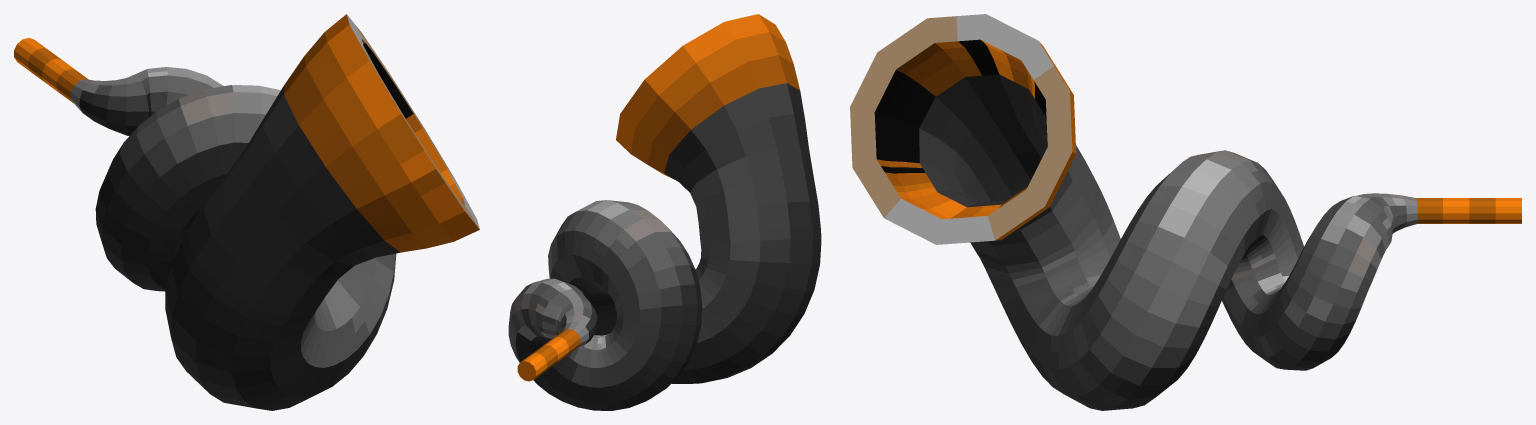
File: horn_888x00.gltf
The picture shows the model from 3 angles, left to right: view 1: azimuth 30°, elevation 25°; view 2: azimuth 150°, elevation 25°; view 3: azimuth 270°, elevation 25°; orthographic projection. The views are drawn at different scales.
Visible parts, largest first — view 1: Horn_888x00; view 2: Horn_888x00; view 3: Horn_888x00.
Boxes of the visible parts, <box> form: Horn_888x00: <box>14,14,479,410</box>; Horn_888x00: <box>508,14,821,410</box>; Horn_888x00: <box>850,14,1521,410</box>.
Bounding box in the file's own units: 1.62 × 2.41 × 3.8.
1 material, 1 textured.
